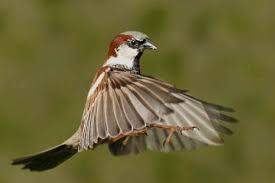hsparrow: (9, 27, 244, 174)
